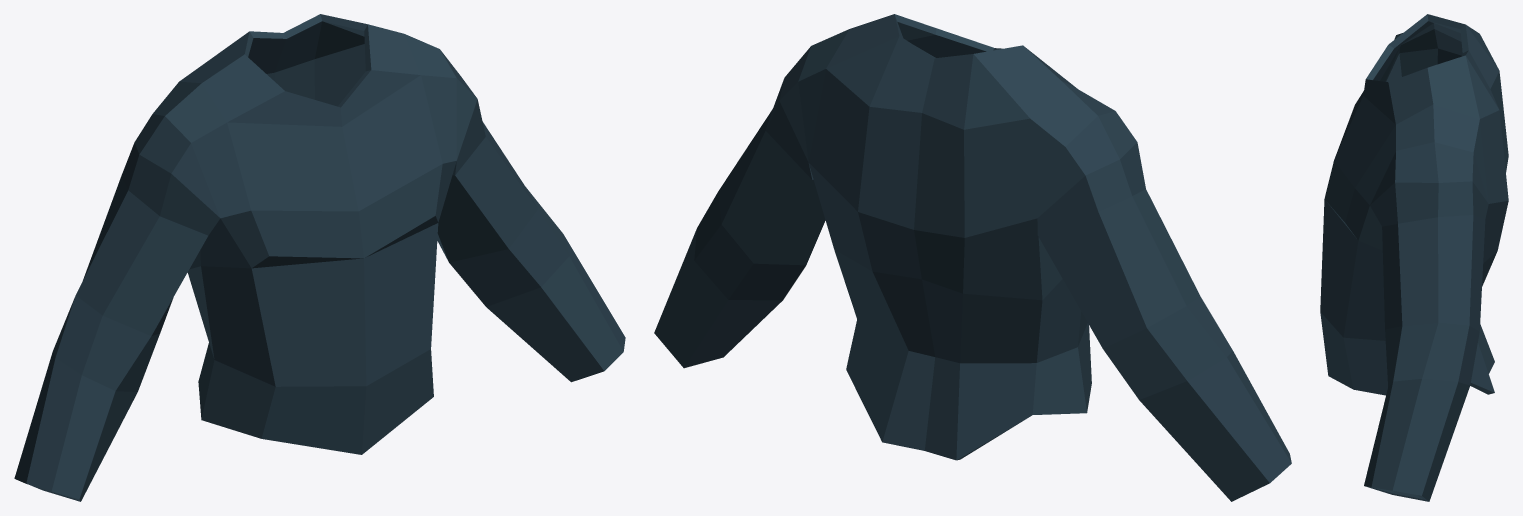
Rendered from pechera.fbx.
The picture shows the model from 3 angles, left to right: view 1: azimuth 30°, elevation 25°; view 2: azimuth 150°, elevation 25°; view 3: azimuth 270°, elevation 25°; orthographic projection. The views are drawn at different scales.
Visible parts, largest first — view 1: male.002; view 2: male.002; view 3: male.002.
Part boxes in pixels (x1=…): male.002: x1=14, y1=14, x2=625, y2=501; male.002: x1=654, y1=14, x2=1291, y2=501; male.002: x1=1320, y1=14, x2=1508, y2=501.
Size of the model in its own units: 192 by 119 by 58.41.
Materials: 1 (1 with a texture image).
